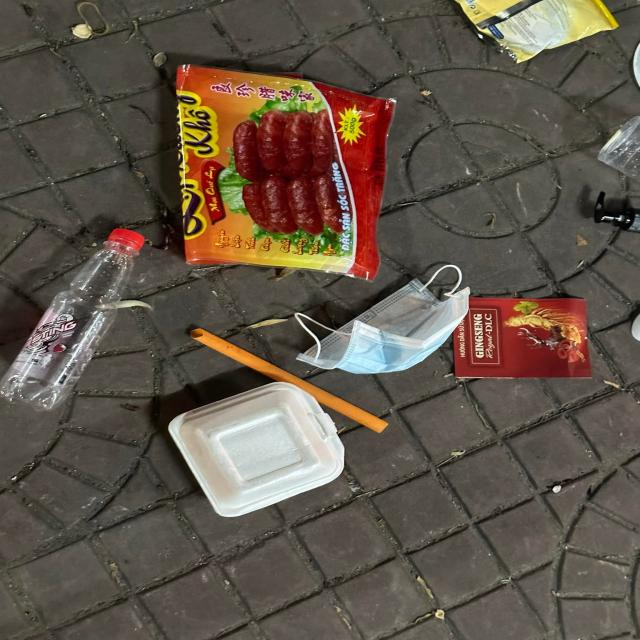bottle: (0, 227, 145, 410)
drinking straw: (190, 328, 390, 434)
foam box: (170, 382, 344, 517)
mask: (294, 263, 472, 375)
paper: (454, 298, 592, 377)
snack package: (178, 64, 398, 281), (455, 0, 621, 65)
